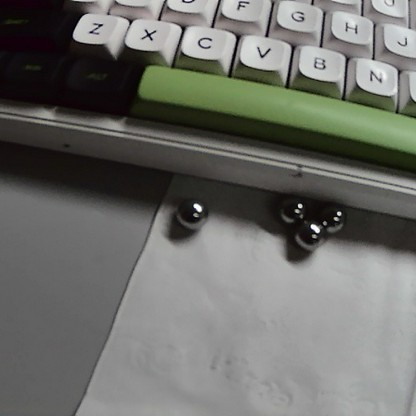ironball: (169, 192, 219, 230), (269, 188, 307, 228), (290, 218, 330, 251), (314, 198, 349, 234)
